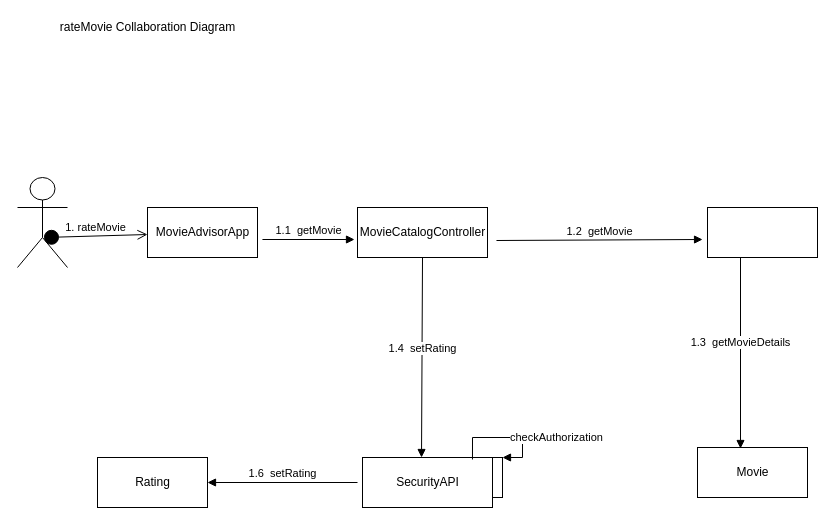
Some shapes in this 835 by 525 pixel diagram are drawn without their labels. Here are the shapes that lost their labels. From the top down, the centre of each, then its label:
At point 42,222: "User".
At point 762,232: "MovieCatalog".
